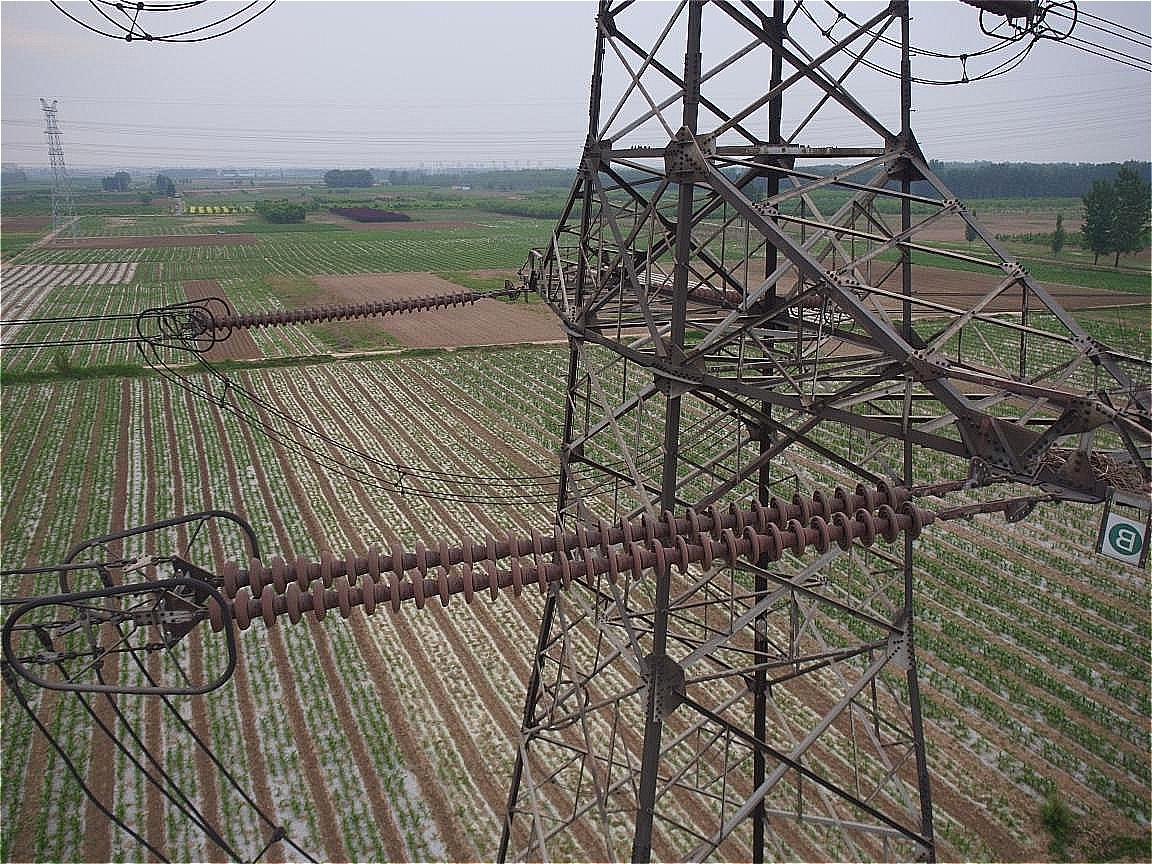insultor1: (208, 480, 925, 634), (208, 289, 481, 332)
